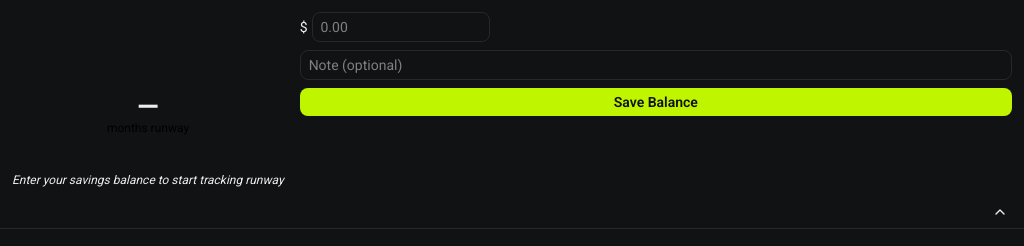
Scenario: WealthPanel › clicking collapse hides panel content
This screenshot has width=1024, height=246.
Click the button named "Collapse wealth panel". click: point(1000, 212)
box: [988,200,1012,224]
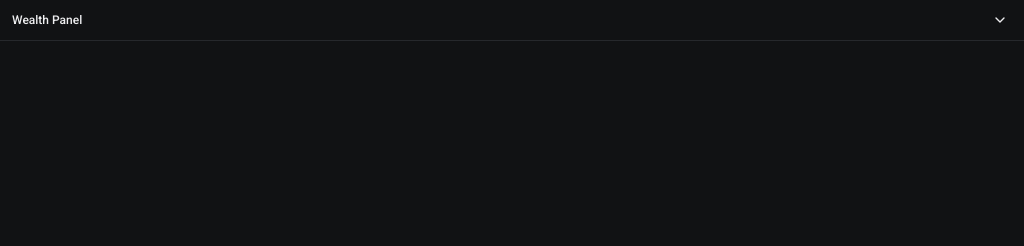
Check: the button "Save Balance" is gone
